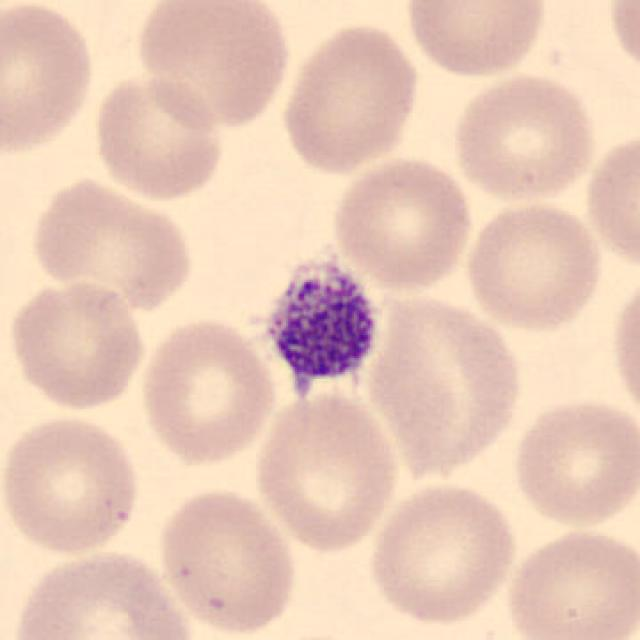Platelets: (254, 250, 391, 408)
RBC: (364, 289, 528, 483), (251, 384, 404, 557), (25, 173, 197, 314), (364, 478, 521, 628), (277, 18, 425, 176), (153, 485, 302, 638), (135, 312, 279, 469), (0, 411, 146, 559), (133, 0, 295, 130), (448, 69, 599, 206), (329, 152, 476, 292), (5, 275, 150, 414), (461, 198, 606, 334), (5, 545, 201, 640), (89, 70, 227, 204), (507, 393, 638, 531), (0, 0, 99, 160), (502, 525, 638, 640), (402, 0, 551, 81), (582, 125, 638, 275), (606, 266, 640, 428), (602, 0, 640, 84)
